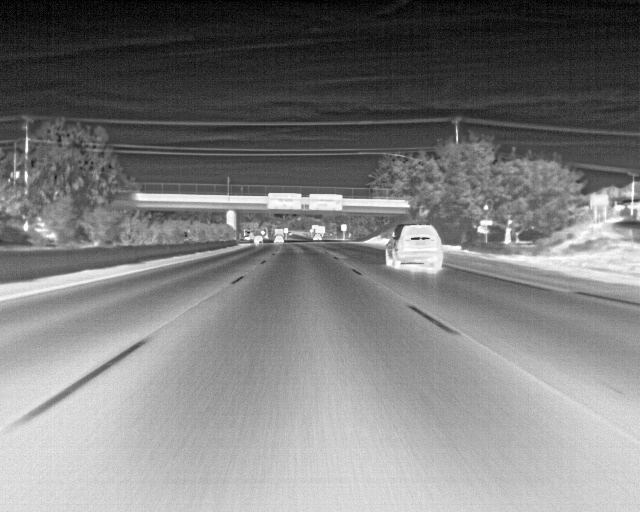vehicle: (387, 223, 442, 269)
